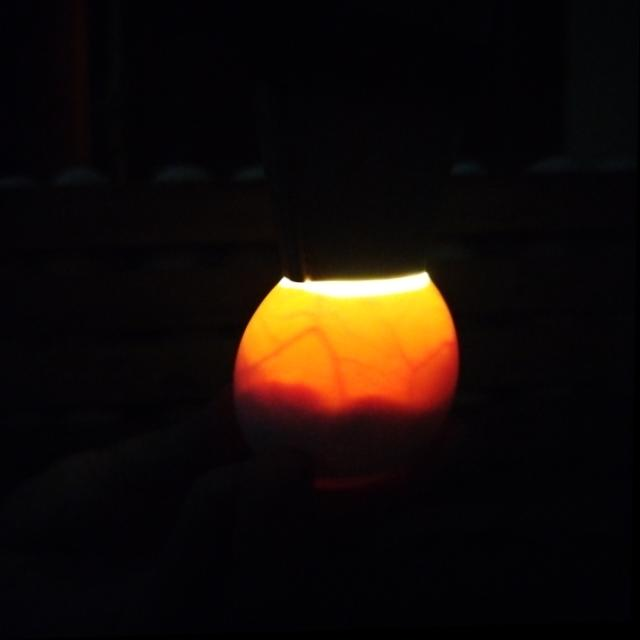Embriao: (226, 369, 458, 491)
